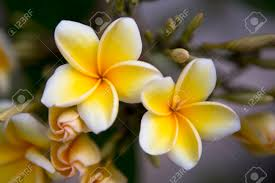frangipani: (43, 18, 161, 135)
